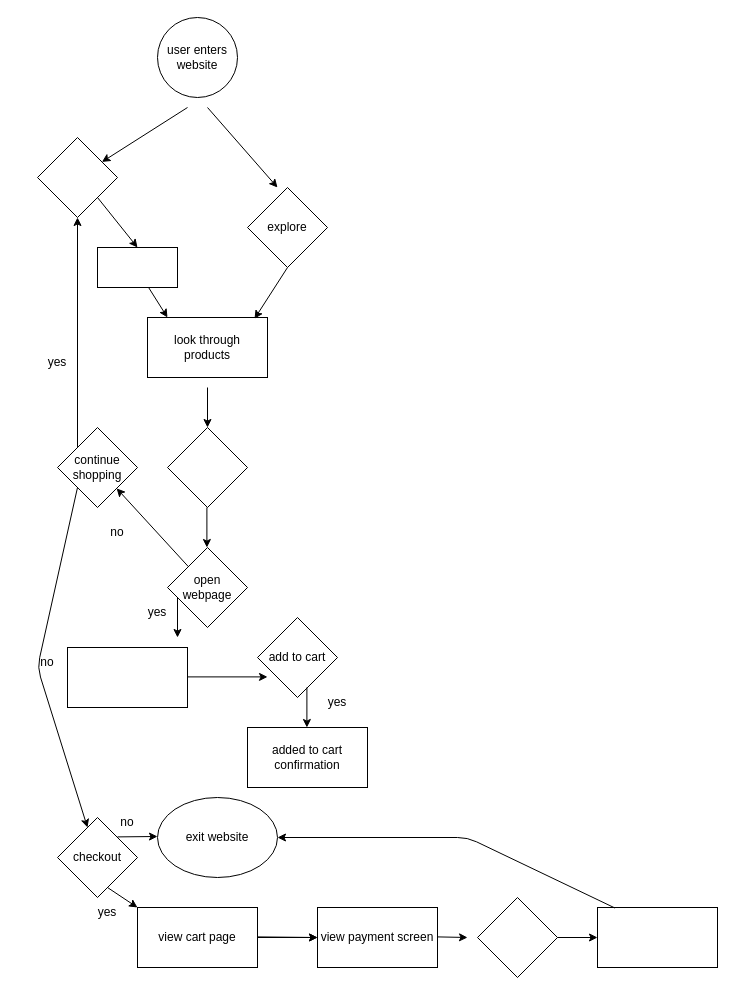
This 735x995 diagram has some shape labels left out. The centre of each missing label's shape, as x and y in pixels:
"found a product" goes at (x=207, y=467).
"input payment info" goes at (x=517, y=937).
"product webpage" goes at (x=127, y=677).
"provide input" goes at (x=137, y=267).
"recieve confirmation" goes at (x=657, y=937).
"search" goes at (x=77, y=177).
